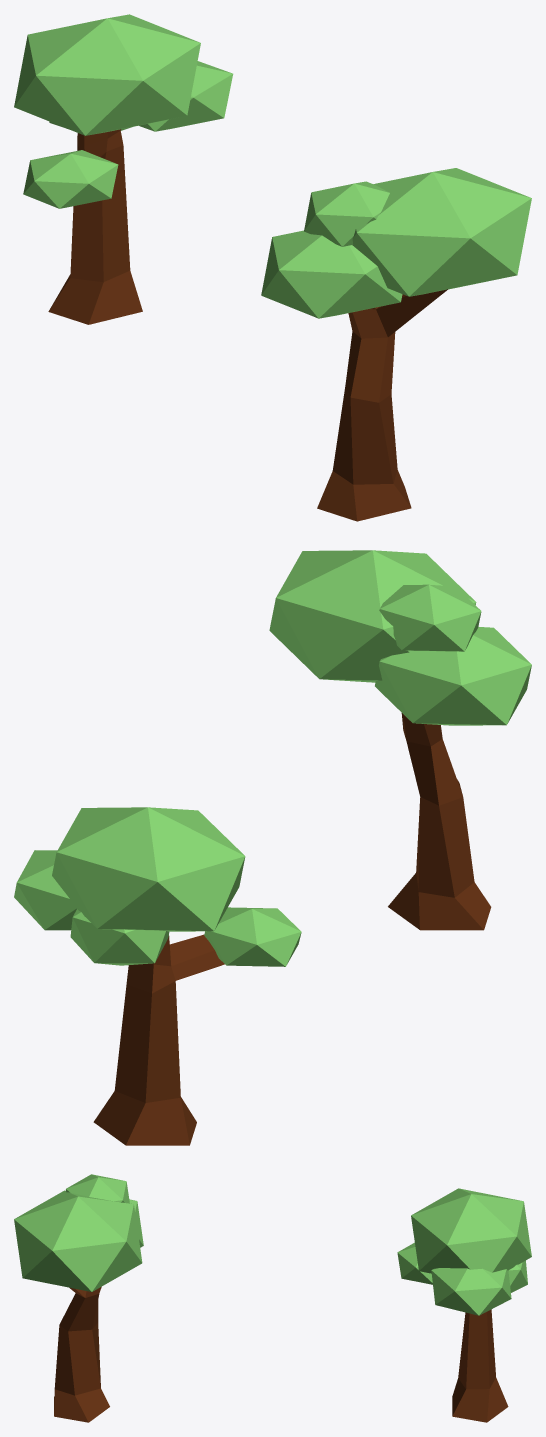
Rendered from Trees.fbx.
3 views of the same model, one above another, from view 1: azimuth 30°, elevation 25°; view 2: azimuth 150°, elevation 25°; view 3: azimuth 270°, elevation 25° (orthographic). The views are drawn at different scales.
Parts seen in each view (by area): view 1: Trees; view 2: Trees; view 3: Trees.
Part boxes in pixels (bbox=[...]): Trees: bbox=[14, 14, 531, 521]; Trees: bbox=[14, 550, 531, 1145]; Trees: bbox=[14, 1174, 531, 1422].
Bounding box in the file's own units: 845 × 1010 × 2030.
